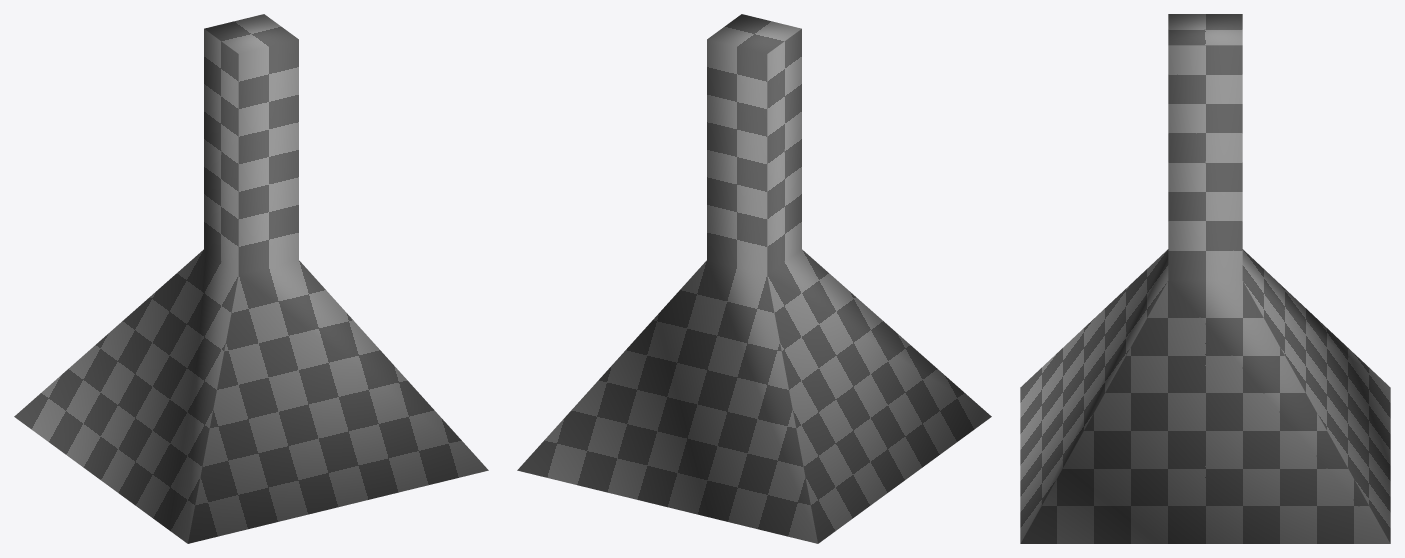
Rendered from turret_stand.fbx.
3 renders of one model, left to right at view 1: azimuth 30°, elevation 25°; view 2: azimuth 150°, elevation 25°; view 3: azimuth 270°, elevation 25°, orthographic. The views are drawn at different scales.
Visible parts, largest first — view 1: Cube; view 2: Cube; view 3: Cube.
Part boxes in pixels (box(x1,y1,x2,y2)): Cube: box(14, 14, 488, 543); Cube: box(517, 14, 991, 543); Cube: box(1020, 14, 1390, 543).
Bounding box in the file's own units: 0.625 × 0.8125 × 0.625.
